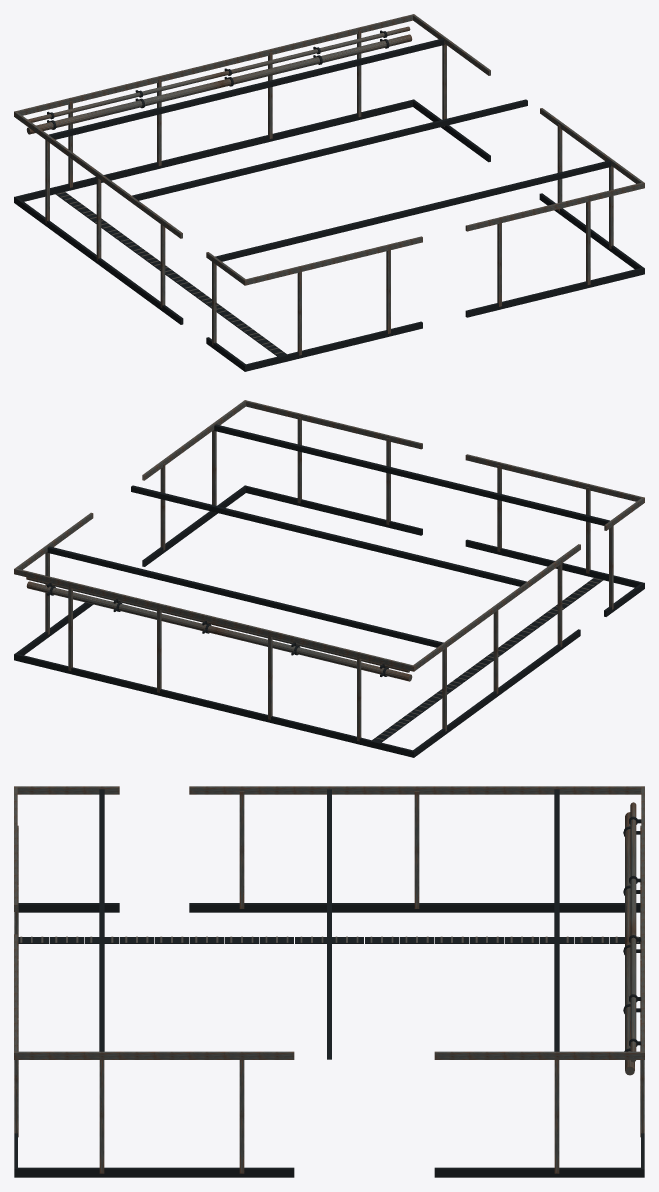
File: ServiceStructure05Yard.obj
3 views of the same model, one above another, from view 1: azimuth 30°, elevation 25°; view 2: azimuth 150°, elevation 25°; view 3: azimuth 270°, elevation 25° (orthographic). The views are drawn at different scales.
Visible parts, largest first — view 1: ServiceStructure05Yard; view 2: ServiceStructure05Yard; view 3: ServiceStructure05Yard.
Boxes of the visible parts, x1,y1,x2,y2 form: ServiceStructure05Yard: (14,14,644,371); ServiceStructure05Yard: (14,400,644,757); ServiceStructure05Yard: (14,786,644,1177).
Bounding box in the file's own units: 18.02 × 3.93 × 18.02.
3 materials, 2 textured.
